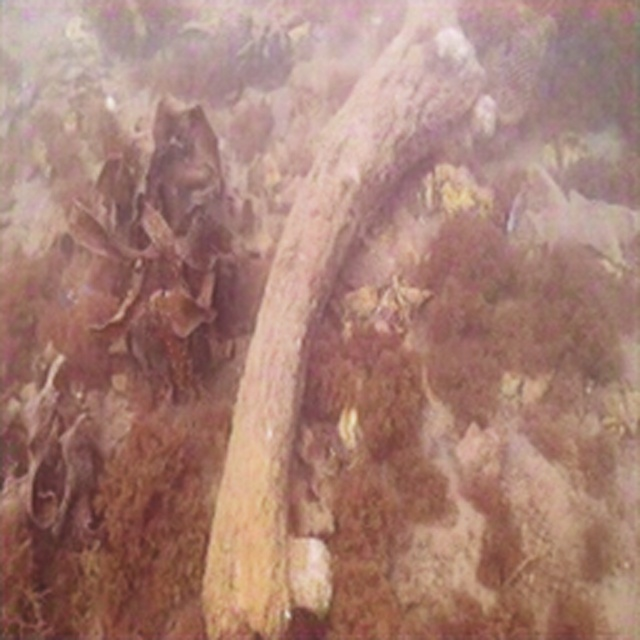mine: (486, 1, 558, 124)
